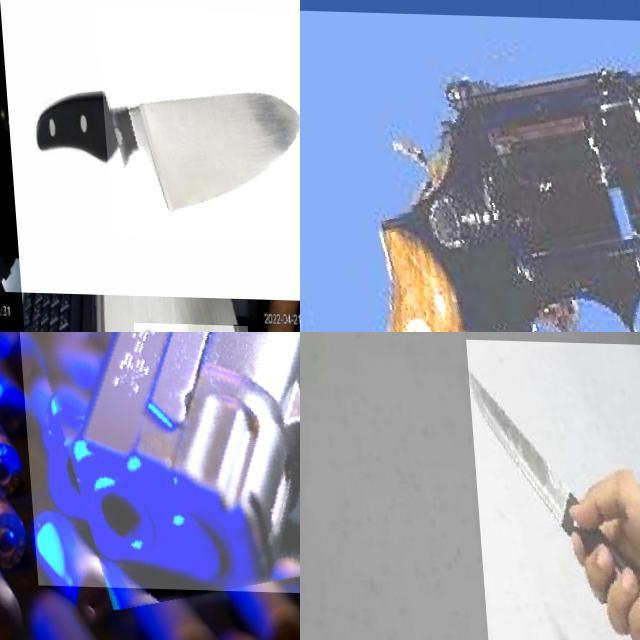-: (465, 337, 640, 640), (95, 5, 300, 238), (0, 0, 59, 289)
gun-knife-thesis - v11 Yolov5 augmented: (300, 10, 640, 332), (3, 332, 300, 595)
